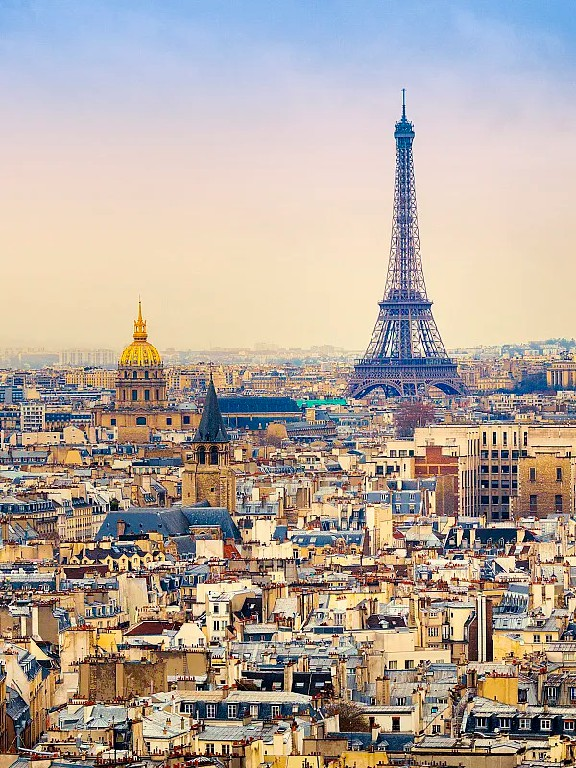Eiffel: (340, 88, 470, 398)
